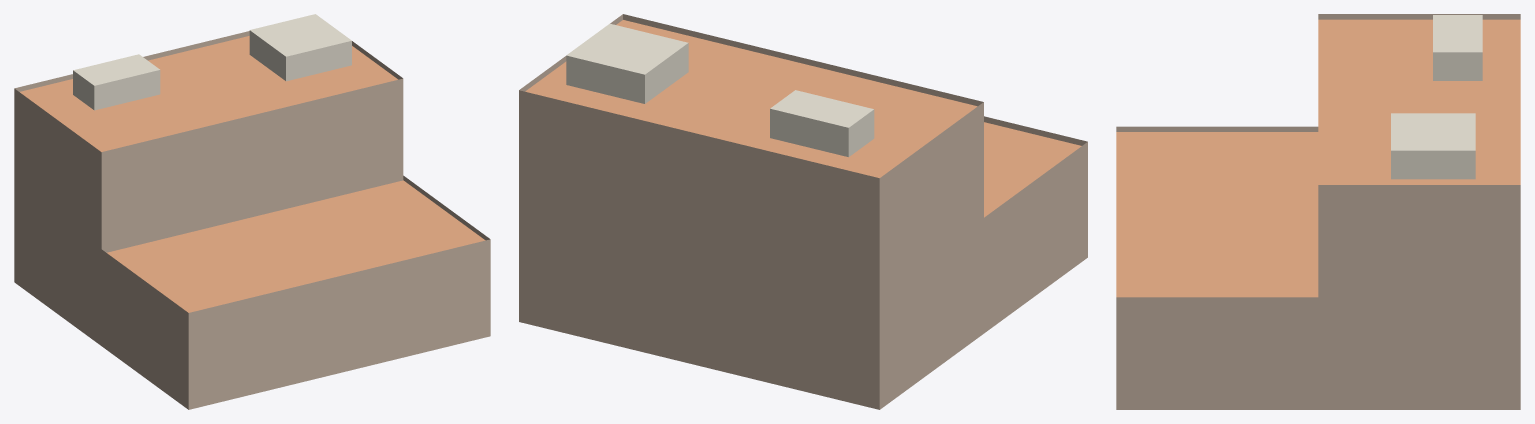
The picture shows the model from 3 angles, left to right: view 1: azimuth 30°, elevation 25°; view 2: azimuth 150°, elevation 25°; view 3: azimuth 270°, elevation 25°; orthographic projection. The views are drawn at different scales.
Parts seen in each view (by area): view 1: Object_5, Object_4, Object_3, Object_1, Object_2; view 2: Object_5, Object_3, Object_1, Object_2, Object_4; view 3: Object_5, Object_4, Object_3, Object_1, Object_2.
Boxes of the visible parts, <box> form: Object_5: <box>14,31,490,409</box>; Object_4: <box>106,180,485,312</box>; Object_3: <box>20,36,397,151</box>; Object_1: <box>249,14,351,81</box>; Object_2: <box>73,54,160,110</box>; Object_5: <box>519,14,1087,409</box>; Object_3: <box>525,20,977,178</box>; Object_1: <box>566,23,688,103</box>; Object_2: <box>770,90,874,157</box>; Object_4: <box>984,122,1081,217</box>; Object_5: <box>1116,14,1520,409</box>; Object_4: <box>1116,132,1318,297</box>; Object_3: <box>1318,19,1520,184</box>; Object_1: <box>1391,113,1475,179</box>; Object_2: <box>1433,15,1482,80</box>.
Size of the model in its own units: 1283 by 1283 by 868.
